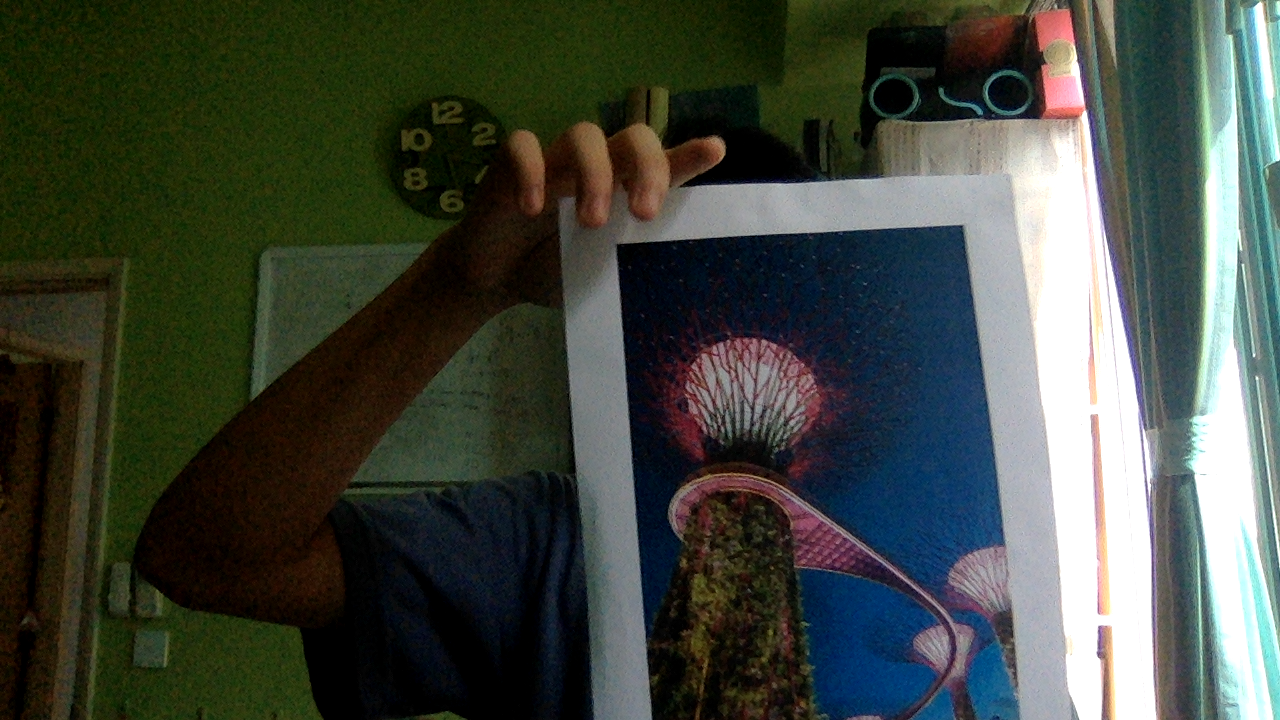GBTB: (613, 208, 1027, 720)
